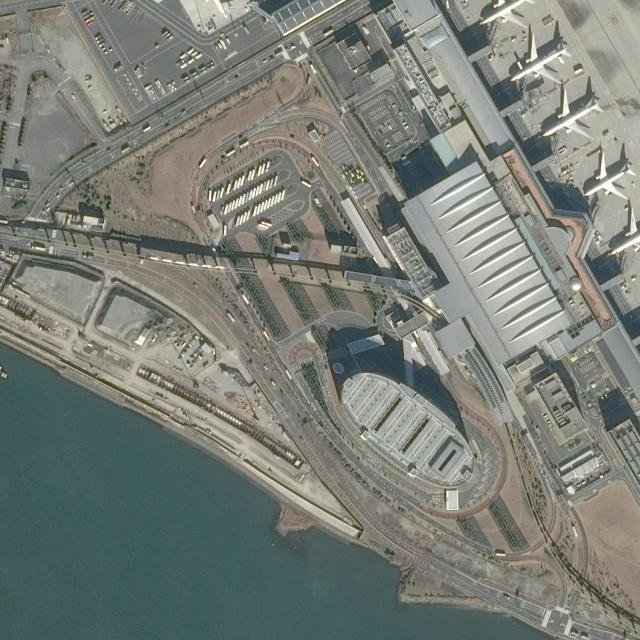Aircraft: (538, 87, 604, 141), (509, 30, 567, 89), (581, 148, 635, 202), (607, 202, 640, 258), (475, 0, 534, 28), (182, 0, 232, 19)
